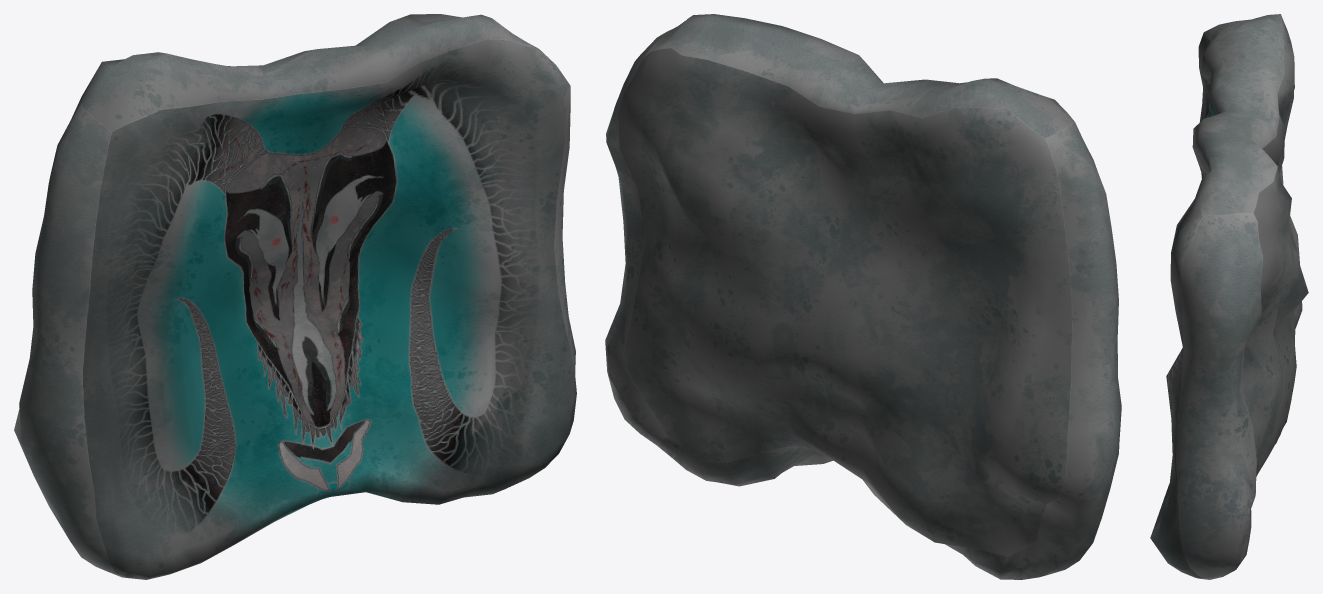
Rendered from Piezas del altar.fbx.
3 views of the same model, side by side, from view 1: azimuth 30°, elevation 25°; view 2: azimuth 150°, elevation 25°; view 3: azimuth 270°, elevation 25° (orthographic). The views are drawn at different scales.
Visible parts, largest first — view 1: Cube; view 2: Cube; view 3: Cube.
Part boxes in pixels (x1,y1,x2,y2): Cube: (14, 14, 576, 579); Cube: (605, 14, 1121, 579); Cube: (1150, 14, 1308, 579).
Bounding box in the file's own units: 13.9 × 12.65 × 4.17.
1 material, 1 textured.
